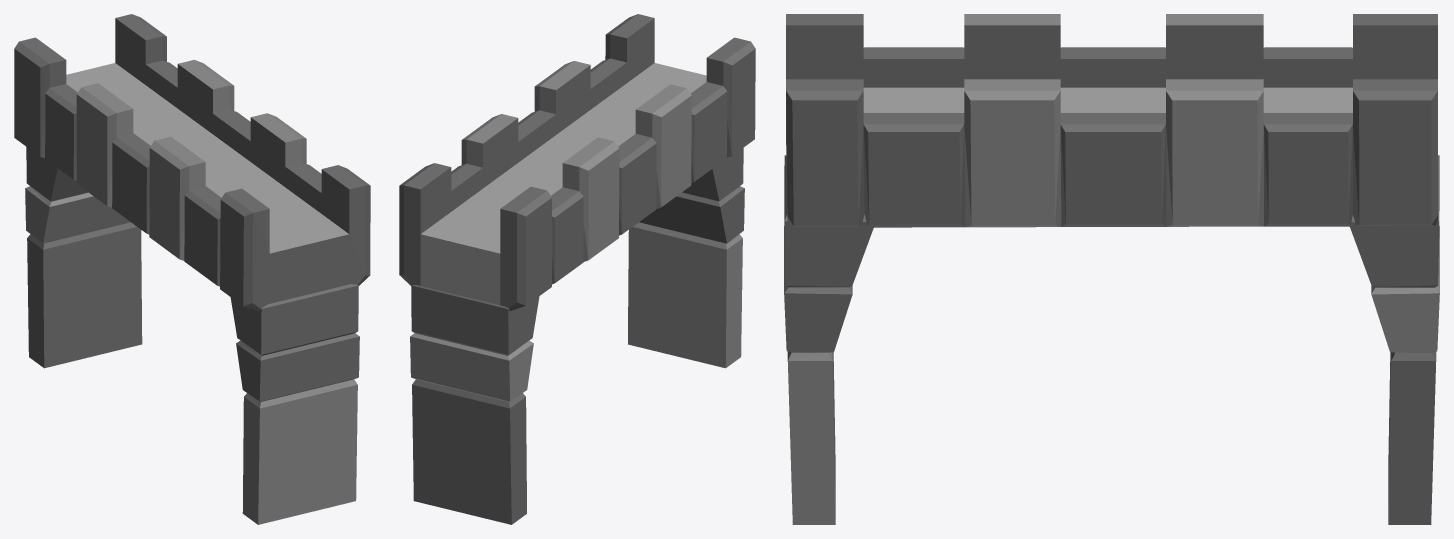
The model's file is BRIDGE_PART_2_01.fbx.
The picture shows the model from 3 angles, left to right: view 1: azimuth 30°, elevation 25°; view 2: azimuth 150°, elevation 25°; view 3: azimuth 270°, elevation 25°; orthographic projection. The views are drawn at different scales.
Visible parts, largest first — view 1: bRUDGE_PART_2_01; view 2: bRUDGE_PART_2_01; view 3: bRUDGE_PART_2_01.
Boxes of the visible parts, bbox=[...] form: bRUDGE_PART_2_01: bbox=[14, 14, 370, 524]; bRUDGE_PART_2_01: bbox=[399, 14, 755, 524]; bRUDGE_PART_2_01: bbox=[784, 14, 1439, 524].
Size of the model in its own units: 97.89 by 233 by 315.
